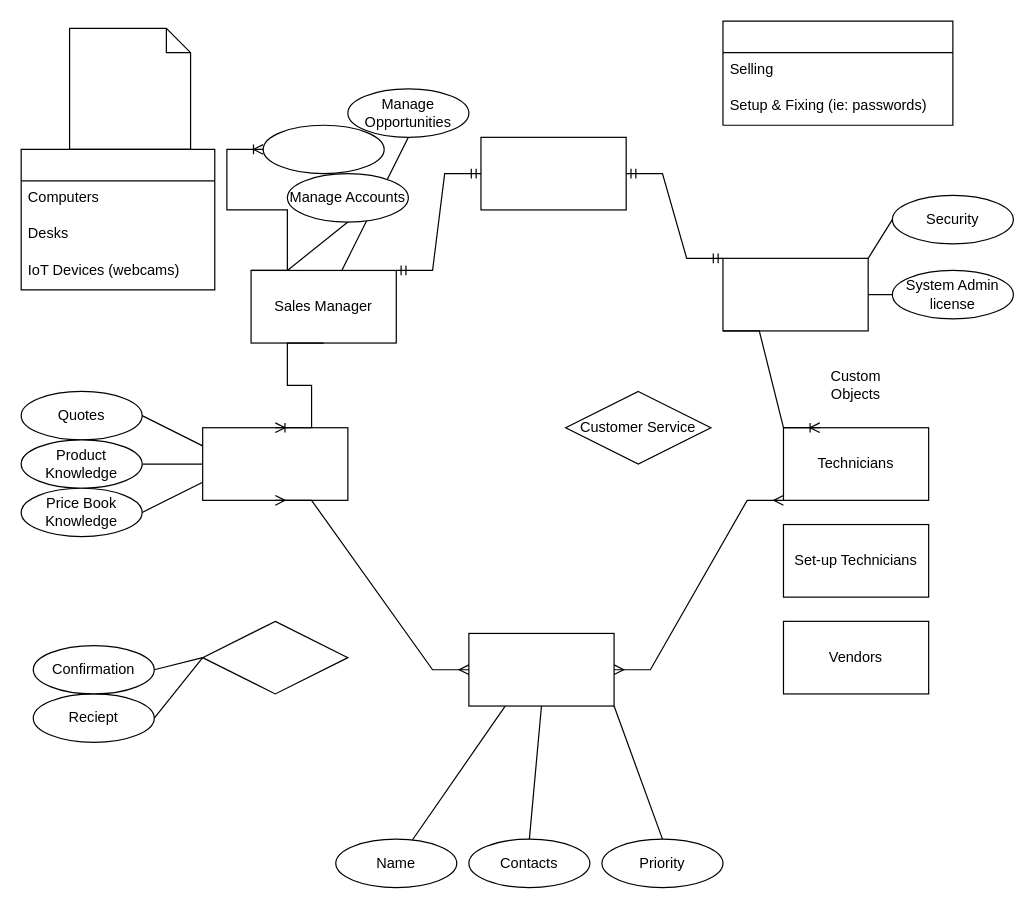
Image size: 1035x909. Some labels were removed from this diagram. Here are the shapes that lost their labels. From the top down, the box of each, then its label:
(68, 27, 191, 149): Serena's Remote Service...work from home products
(722, 20, 953, 125): List
(262, 124, 384, 174): Manage Work Orders
(480, 136, 626, 210): Owner/CEO
(20, 148, 215, 290): Products
(722, 257, 868, 331): System Manager
(201, 427, 348, 500): Sales Associate
(201, 620, 348, 694): Payment
(468, 632, 614, 706): Customer/Leads
